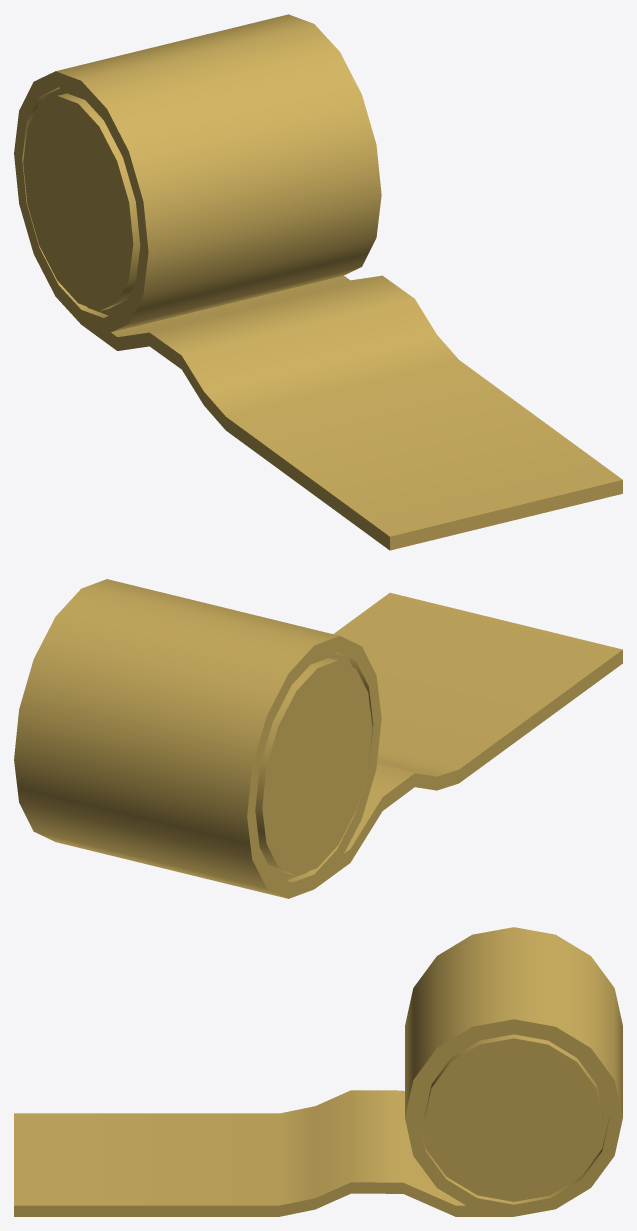
Rendered from bandage.fbx.
3 renders of one model, top to bottom at view 1: azimuth 30°, elevation 25°; view 2: azimuth 150°, elevation 25°; view 3: azimuth 270°, elevation 25°, orthographic. The views are drawn at different scales.
Visible parts, largest first — view 1: Cylinder; view 2: Cylinder; view 3: Cylinder.
Boxes of the visible parts, x1,y1,x2,y2 form: Cylinder: (14,14,622,550); Cylinder: (14,579,622,898); Cylinder: (14,927,622,1216).
Size of the model in its own units: 205 by 200 by 559.
